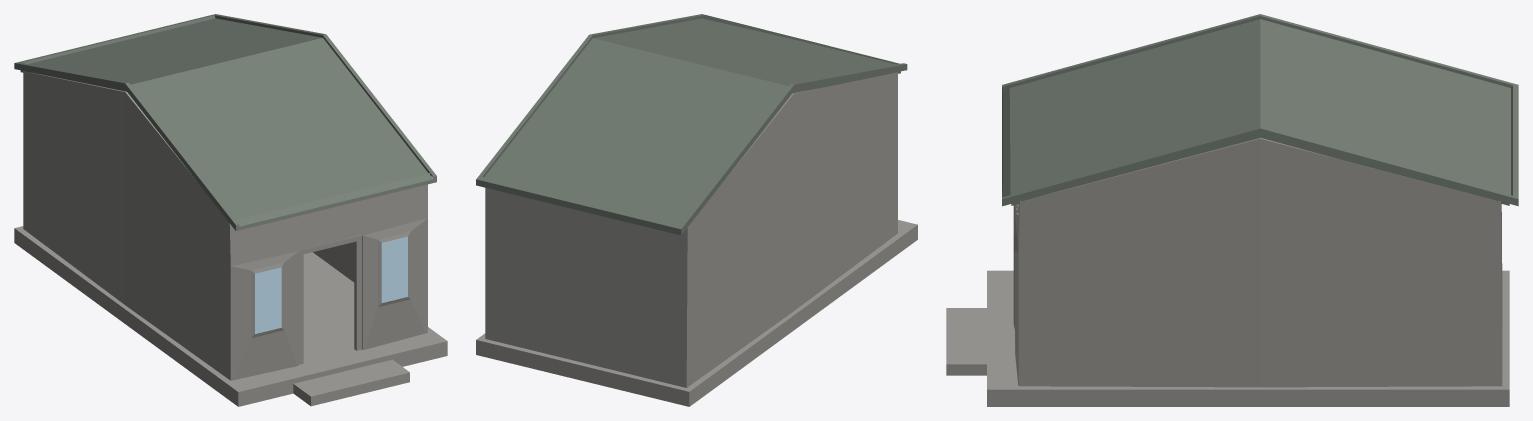
File: REMAKE_turbina_2.fbx
3 renders of one model, left to right at view 1: azimuth 30°, elevation 25°; view 2: azimuth 150°, elevation 25°; view 3: azimuth 270°, elevation 25°, orthographic. The views are drawn at different scales.
Parts seen in each view (by area): view 1: pantry.001; view 2: pantry.001; view 3: pantry.001.
Part boxes in pixels (bbox=[...]): pantry.001: bbox=[14, 14, 447, 406]; pantry.001: bbox=[476, 14, 917, 406]; pantry.001: bbox=[946, 14, 1518, 406].
Size of the model in its own units: 400 by 433 by 813.
